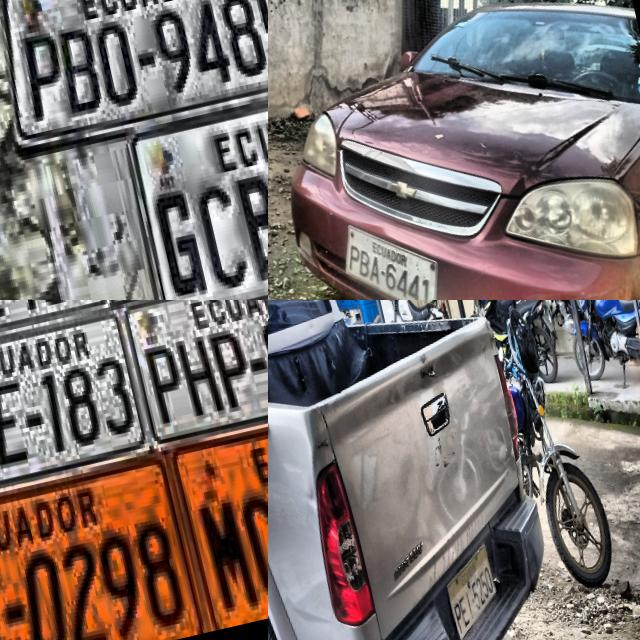license_plate: (1, 0, 268, 152), (0, 443, 206, 640), (123, 88, 268, 300), (340, 218, 442, 300), (444, 539, 498, 640)
